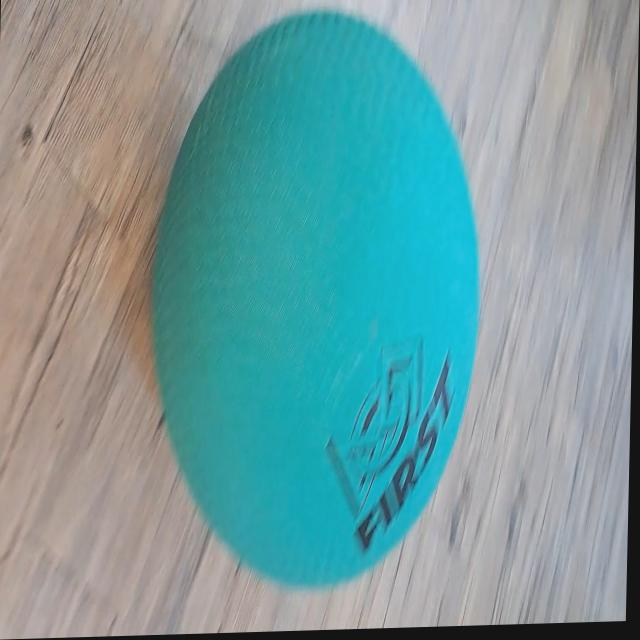ALGAE: (142, 3, 489, 595)
